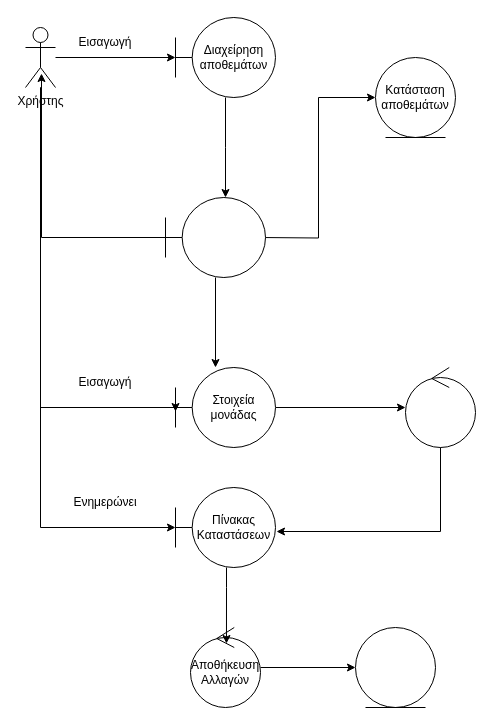
Some shapes in this 493 by 725 pixel diagram are drawn without their labels. The shapes that lost their labels are listed below. From the top down, each one's centre as x and y in pixels, then its label:
[215,237]: Μονάδες Αίματος
[440,407]: Έλεγχος Συστήματος
[395,667]: Ενημέρωση βάσης
